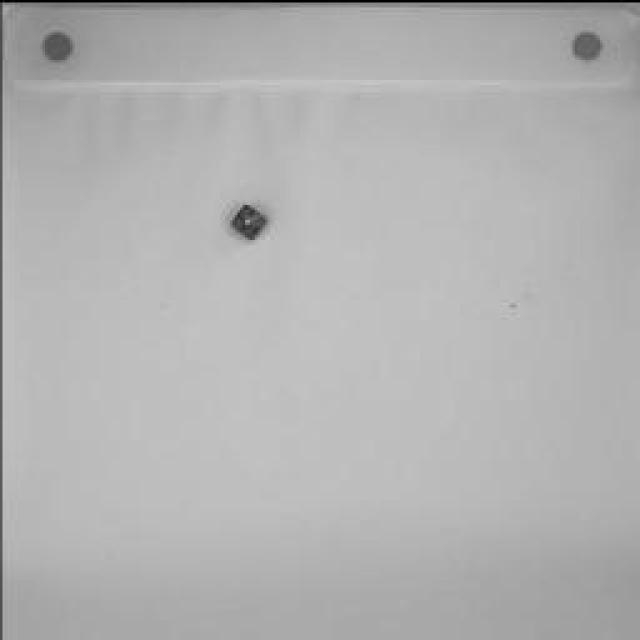dice_1: (229, 200, 266, 238)
